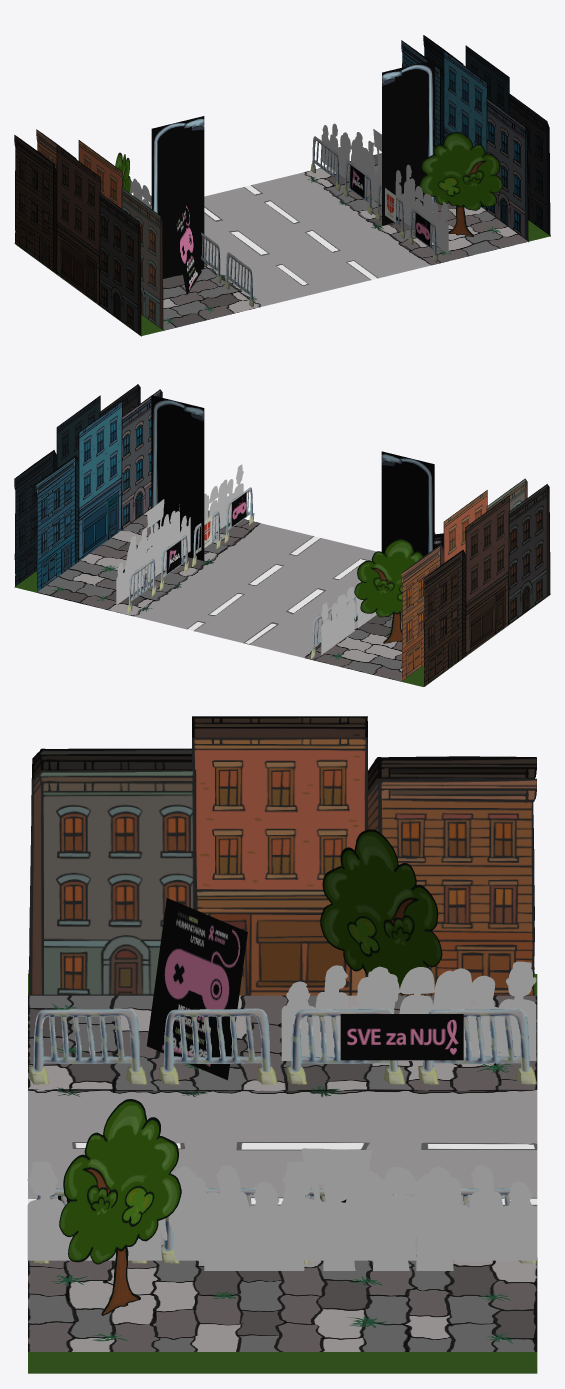
The picture shows the model from 3 angles, top to bottom: view 1: azimuth 30°, elevation 25°; view 2: azimuth 150°, elevation 25°; view 3: azimuth 270°, elevation 25°; orthographic projection. The views are drawn at different scales.
Parts seen in each view (by area): view 1: Road.004, Buildings2-Dark-L, Buildings-Light-R.001, Lamp-Post-L.003, Lamp-Post-R.003, Tree.010, Buildings2-Light-L, Buildings-Dark-R.002, crowd.013, crowd.012, novska-za-nju, Fence-L.013 (+5 smaller); view 2: Road.004, Buildings2-Dark-L, Buildings-Light-R.001, Lamp-Post-R.003, Buildings2-Light-L, Buildings-Dark-R.002, Lamp-Post-L.003, Tree.009, crowd.013, crowd.015, crowd.012, crowd2.007 (+4 smaller); view 3: Road.004, Buildings2-Light-L, crowd2.007, Tree.010, Tree.009, crowd.015, Buildings2-Dark-L, crowd.013, novska-za-nju, crowd.012, Logo_sznj.003, Fence-L.013 (+3 smaller).
Part boxes in pixels (bbox=[...]): Road.004: bbox=[14, 153, 550, 335]; Buildings2-Dark-L: bbox=[14, 135, 141, 336]; Buildings-Light-R.001: bbox=[401, 40, 528, 242]; Lamp-Post-L.003: bbox=[151, 116, 204, 278]; Lamp-Post-R.003: bbox=[382, 59, 434, 225]; Tree.010: bbox=[419, 132, 502, 236]; Buildings2-Light-L: bbox=[36, 129, 163, 330]; Buildings-Dark-R.002: bbox=[423, 35, 550, 236]; crowd.013: bbox=[321, 123, 381, 204]; crowd.012: bbox=[395, 170, 448, 254]; novska-za-nju: bbox=[173, 203, 201, 294]; Fence-L.013: bbox=[224, 252, 254, 307]; Road.004: bbox=[14, 509, 550, 686]; Buildings2-Dark-L: bbox=[423, 484, 550, 686]; Buildings-Light-R.001: bbox=[36, 389, 162, 591]; Lamp-Post-R.003: bbox=[151, 395, 204, 560]; Buildings2-Light-L: bbox=[401, 478, 527, 680]; Buildings-Dark-R.002: bbox=[14, 384, 140, 586]; Lamp-Post-L.003: bbox=[381, 451, 434, 555]; Tree.009: bbox=[354, 538, 423, 643]; crowd.013: bbox=[116, 511, 179, 605]; crowd.015: bbox=[321, 580, 376, 654]; crowd.012: bbox=[180, 464, 243, 557]; crowd2.007: bbox=[126, 499, 179, 574]; Road.004: bbox=[28, 974, 537, 1373]; Buildings2-Light-L: bbox=[28, 737, 536, 995]; crowd2.007: bbox=[204, 1148, 459, 1270]; Tree.010: bbox=[59, 1099, 181, 1315]; Tree.009: bbox=[320, 829, 442, 994]; crowd.015: bbox=[281, 961, 536, 1060]; Buildings2-Dark-L: bbox=[28, 716, 536, 974]; crowd.013: bbox=[282, 1161, 536, 1260]; novska-za-nju: bbox=[146, 898, 247, 1080]; crowd.012: bbox=[27, 1161, 279, 1260]; Logo_sznj.003: bbox=[340, 1014, 463, 1060]; Fence-L.013: bbox=[28, 1008, 146, 1084].
Bounding box in the file's own units: 1115 × 400 × 601.
18 materials, 15 textured.
